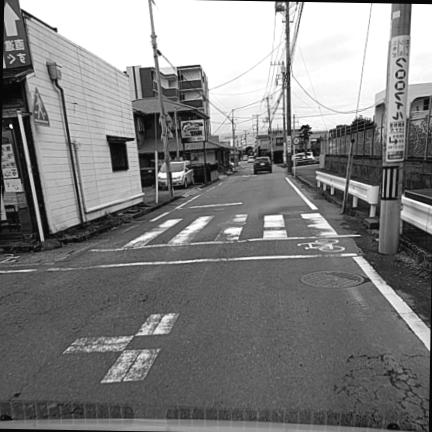Road: (0, 164, 430, 430)
